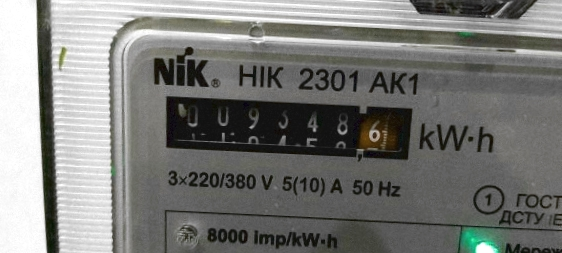0: (183, 102, 200, 129), (214, 101, 230, 127)
3: (275, 104, 290, 130)
4: (302, 104, 321, 135)
6: (365, 115, 383, 145)
8: (334, 108, 350, 137)
9: (245, 105, 260, 133)
screen: (145, 80, 426, 171)
